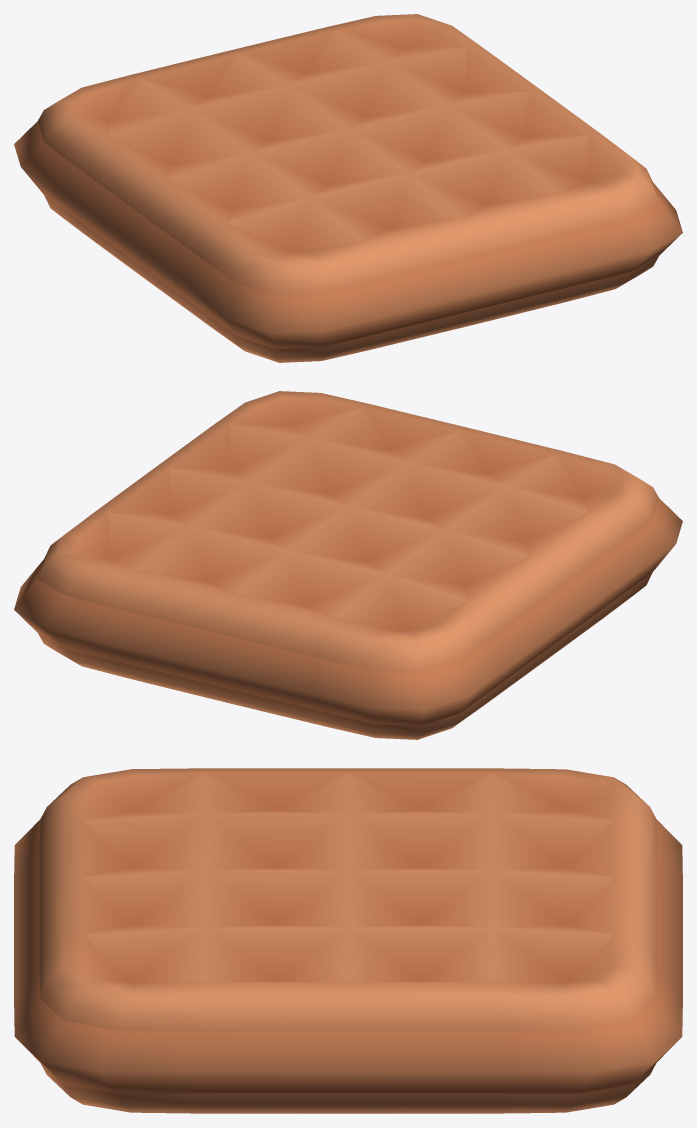
File: waffle.glb
3 views of the same model, one above another, from view 1: azimuth 30°, elevation 25°; view 2: azimuth 150°, elevation 25°; view 3: azimuth 270°, elevation 25° (orthographic). The views are drawn at different scales.
Parts seen in each view (by area): view 1: waffle; view 2: waffle; view 3: waffle.
Part boxes in pixels (x1,y1,x2,y2): waffle: (14,14,682,362); waffle: (14,391,682,739); waffle: (14,768,682,1113).
Bounding box in the file's own units: 0.5155 × 0.1299 × 0.5576.
1 material, 1 textured.
